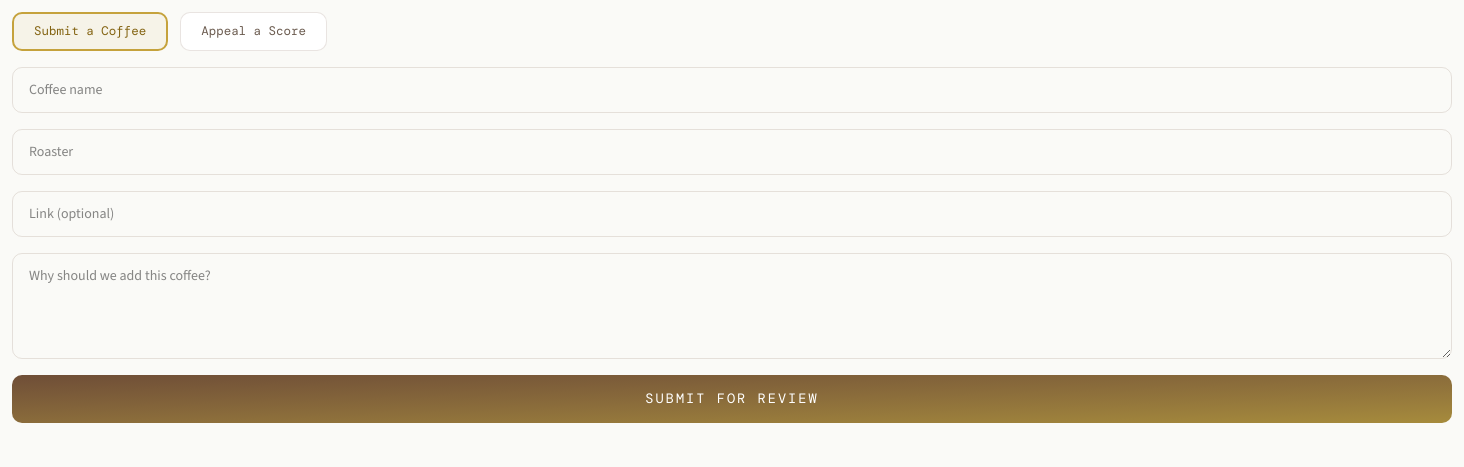
SubmitForm › needs a coffee name and sends nothing when empty
The width and height of the screenshot is (1464, 467).
Step 1. Click the button "Submit for Review" → (732, 399), box x1=12 y1=375 x2=1452 y2=423
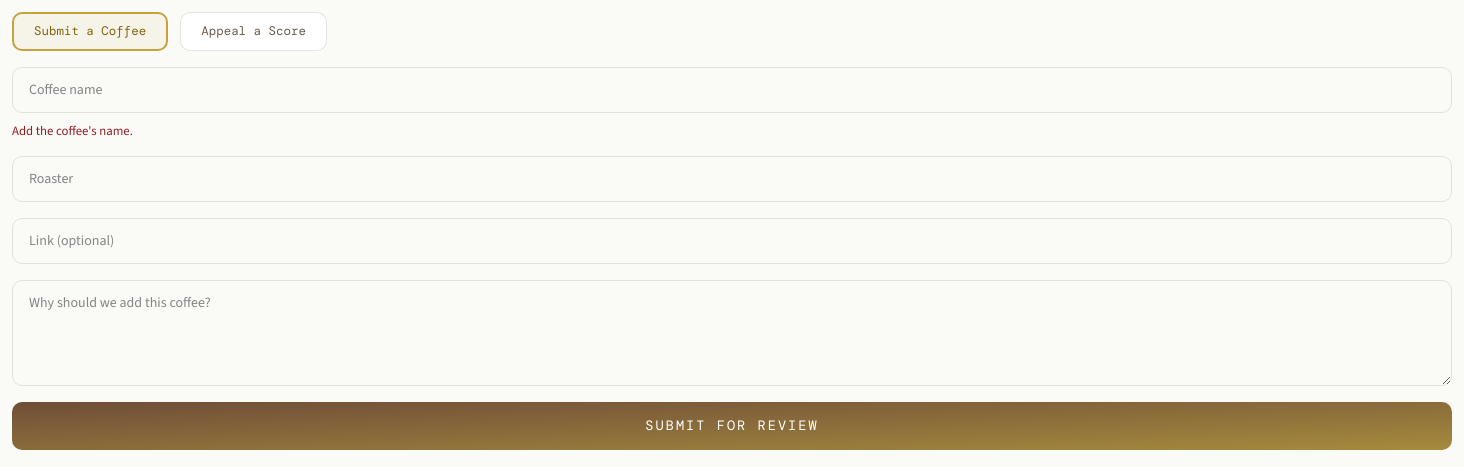
expect the text "Add the coffee's name." is shown: met, box x1=12 y1=122 x2=133 y2=139
